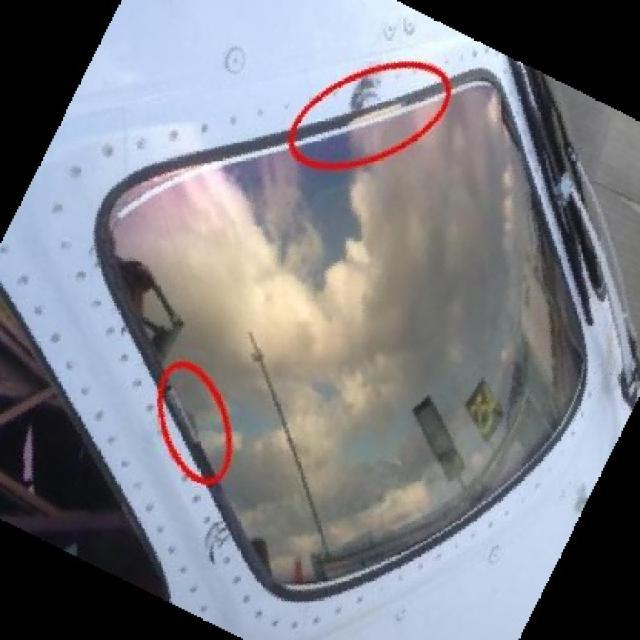crack: (206, 521, 228, 563)
